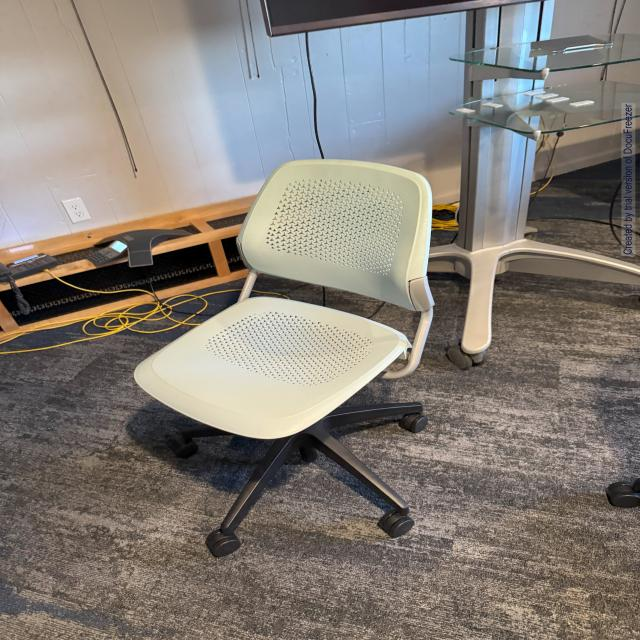chair: (130, 156, 442, 563)
